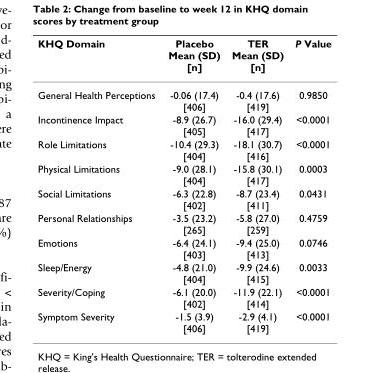table: (37, 36, 330, 333)
table column: (37, 36, 161, 333), (161, 36, 225, 333), (225, 36, 288, 333), (288, 36, 330, 333)
table column header: (37, 36, 330, 80)
table row: (37, 36, 330, 80), (37, 80, 330, 112), (37, 112, 330, 137), (37, 161, 330, 186), (37, 186, 330, 211), (37, 235, 330, 260), (37, 284, 330, 309), (37, 137, 330, 161), (37, 211, 330, 235), (37, 260, 330, 284), (37, 309, 330, 333)
